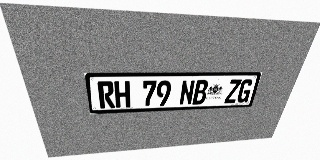7: (142, 80, 157, 107)
9: (156, 80, 172, 106)
B: (192, 80, 209, 105)
G: (236, 79, 254, 103)
H: (114, 81, 130, 108)
N: (179, 80, 195, 105)
R: (97, 81, 115, 108)
Z: (224, 79, 242, 103)
